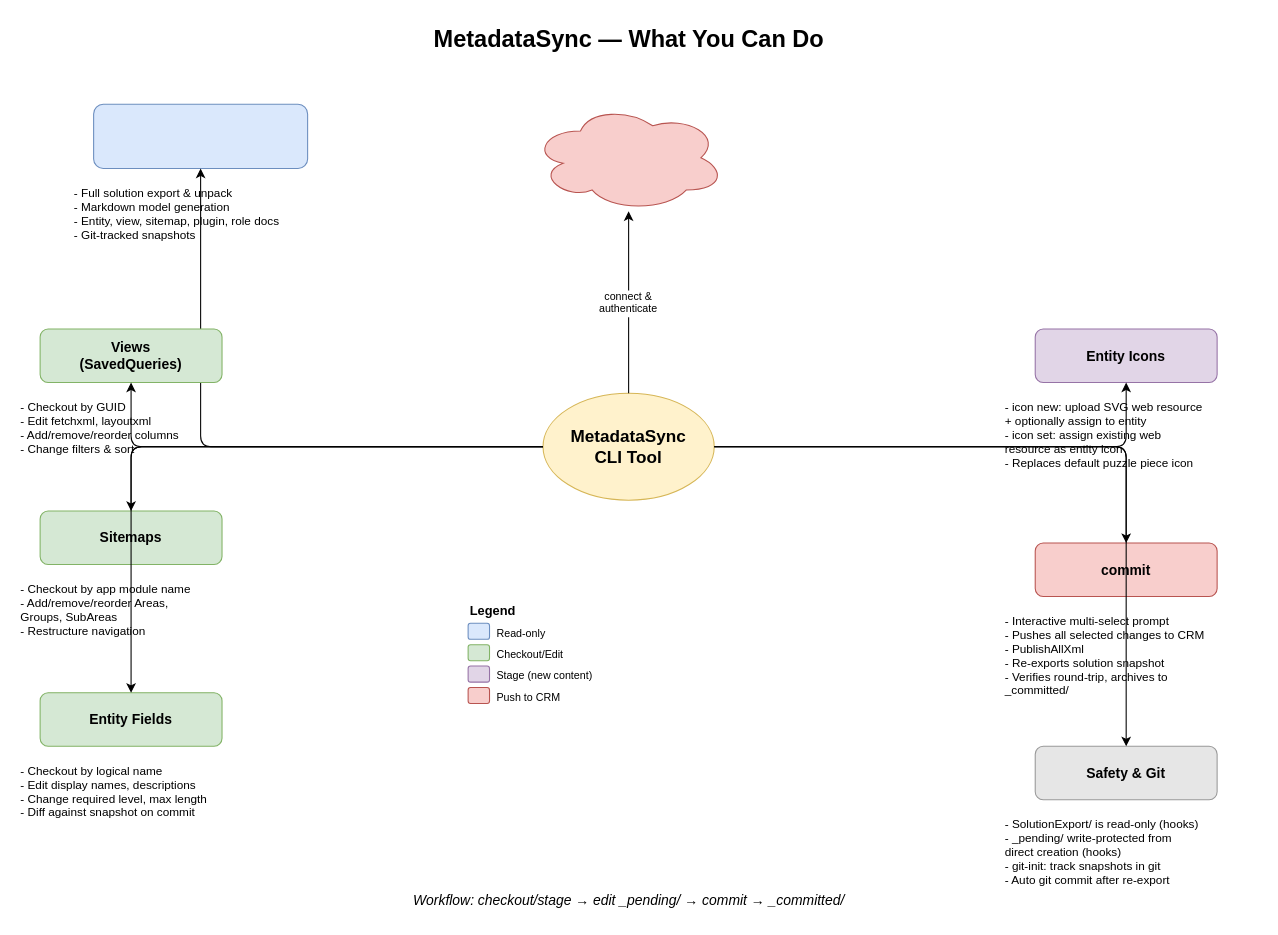
Image size: 1278x935. Some labels were removed from this diagram. Here are the shapes that lost their labels. From the top down, the box of each, then its label:
(93, 103, 308, 169): Sync / Export (read-only)
(531, 103, 725, 211): Dataverse CRM
